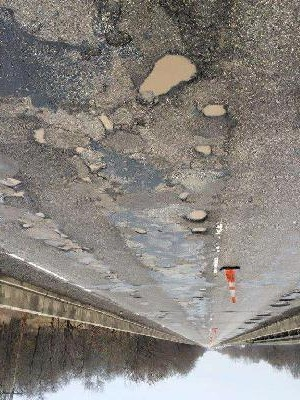pothole: (135, 52, 200, 108), (98, 0, 134, 48), (46, 238, 91, 254), (199, 102, 228, 120), (182, 206, 209, 223), (97, 112, 115, 134), (30, 124, 47, 145), (192, 144, 213, 158), (0, 177, 24, 188), (86, 163, 106, 175), (189, 225, 208, 237), (133, 226, 149, 236), (19, 219, 33, 230), (6, 191, 25, 199), (73, 145, 86, 156), (34, 210, 48, 220)
